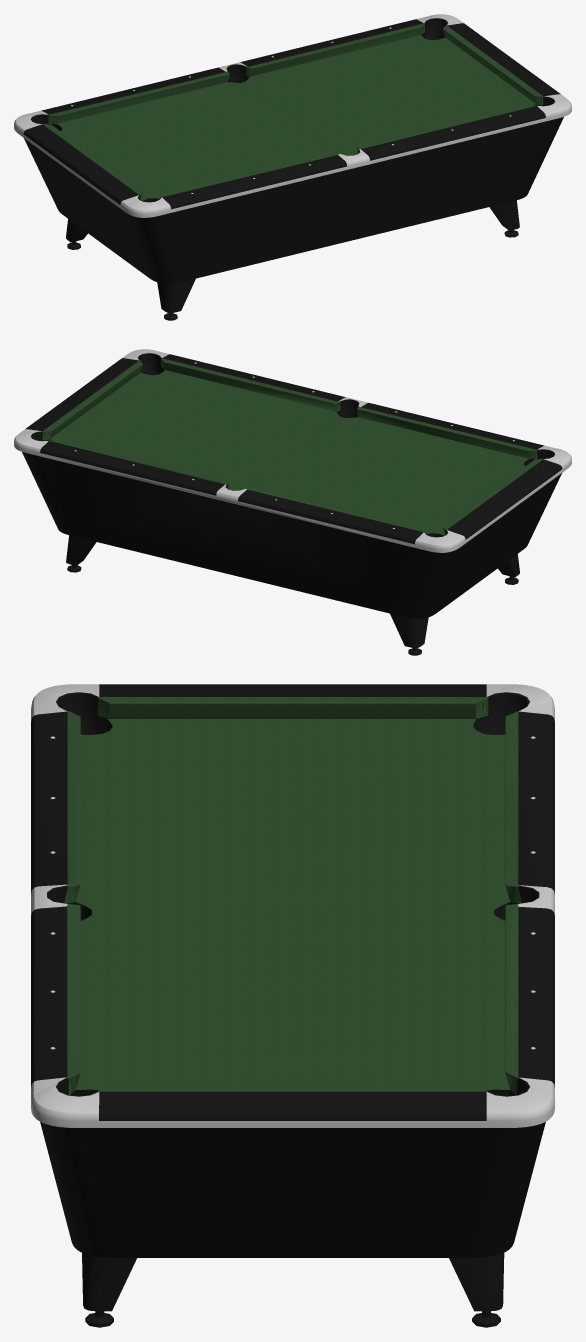
File: mesa_billar.FBX
3 views of the same model, one above another, from view 1: azimuth 30°, elevation 25°; view 2: azimuth 150°, elevation 25°; view 3: azimuth 270°, elevation 25° (orthographic). The views are drawn at different scales.
Parts seen in each view (by area): view 1: mesa_billar; view 2: mesa_billar; view 3: mesa_billar.
Boxes of the visible parts, <box> form: mesa_billar: <box>14,14,571,320</box>; mesa_billar: <box>14,349,571,655</box>; mesa_billar: <box>31,684,554,1327</box>.
Size of the model in its own units: 376 by 106 by 193.
